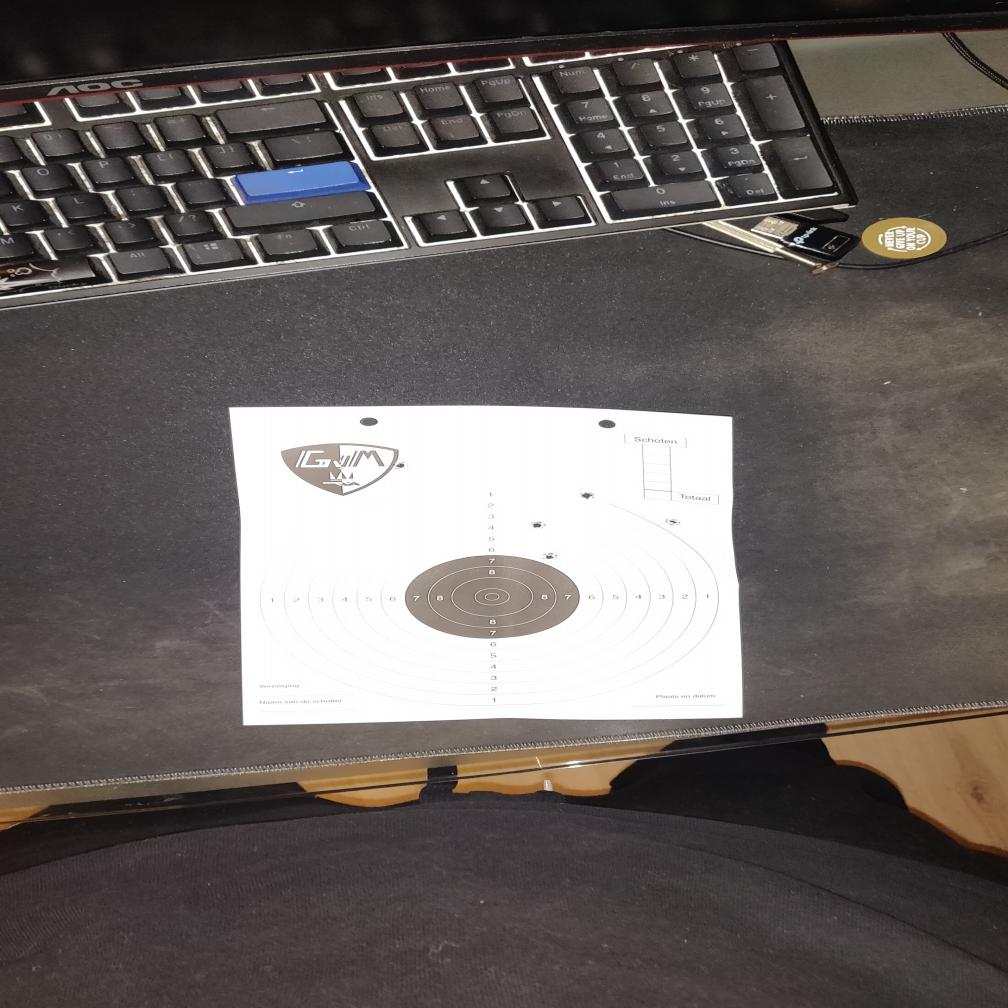0: (662, 518, 684, 527)
1: (575, 490, 596, 500)
3: (528, 520, 546, 529)
6: (540, 552, 559, 561)
Target: (260, 482, 722, 706)
black_contour: (402, 555, 580, 639)
